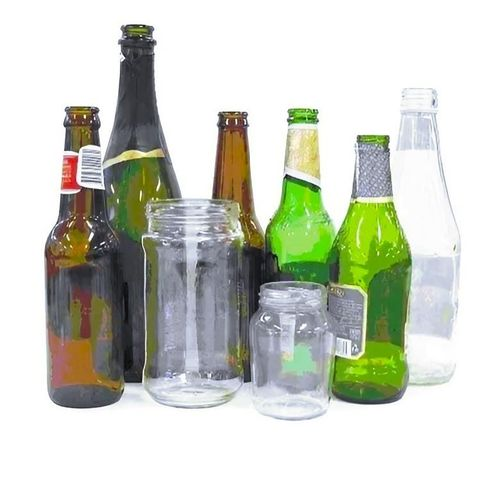glass_bottle: (36, 15, 472, 430)
